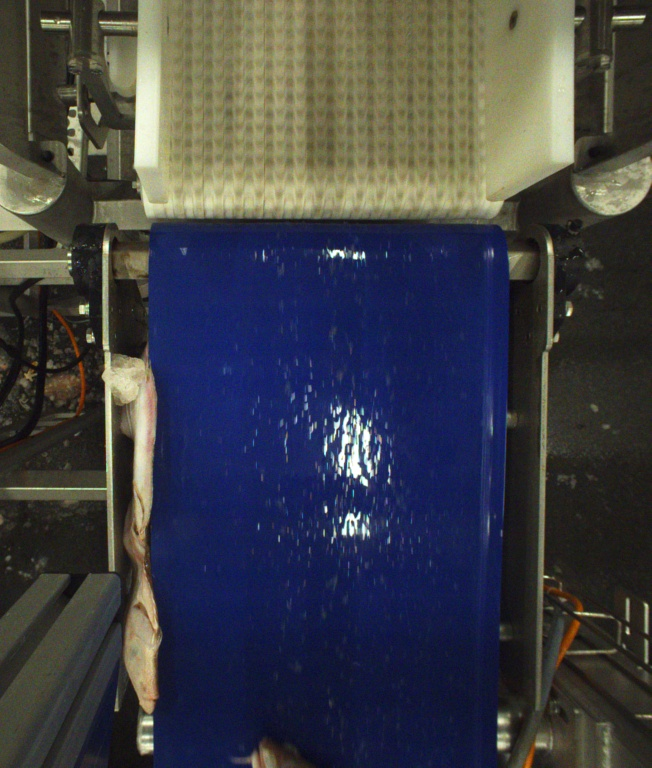BIB: (231, 737, 303, 768)
